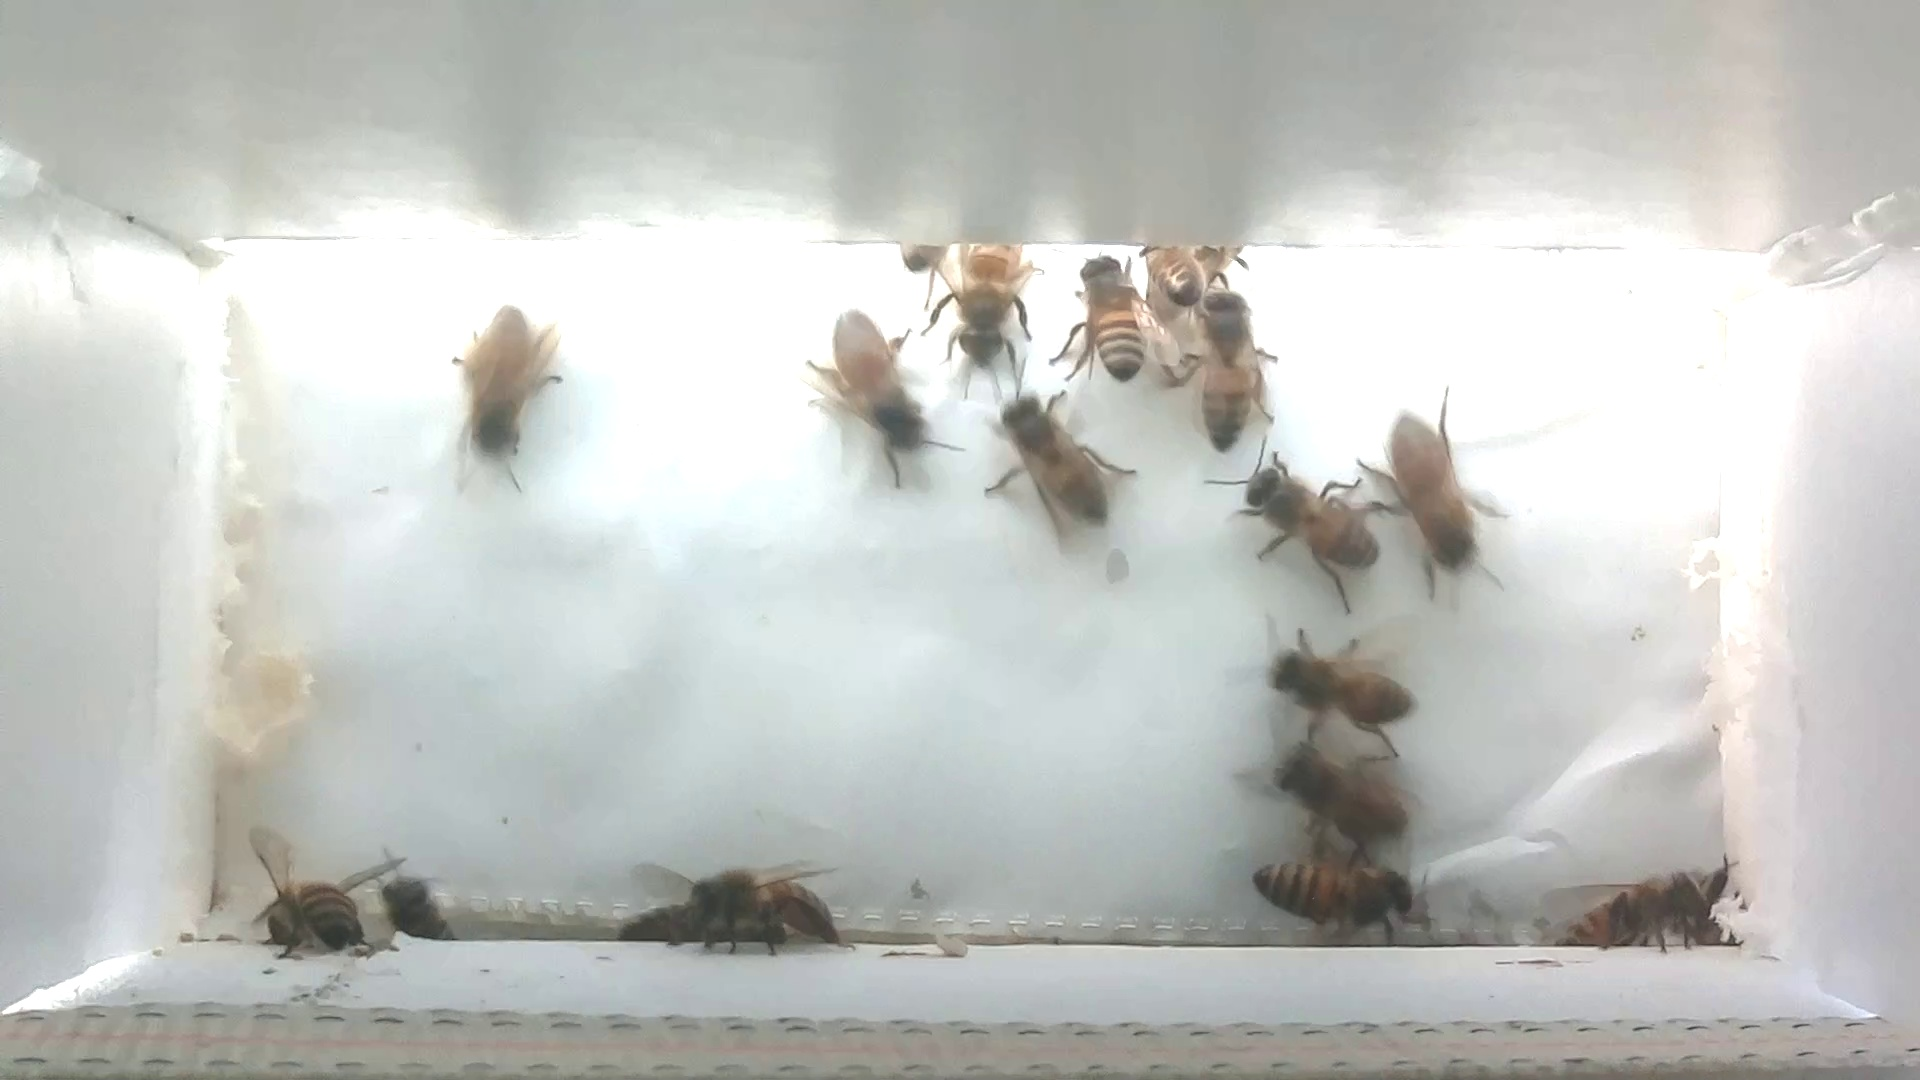bee: (1329, 371, 1520, 600), (1193, 425, 1393, 620), (1244, 615, 1445, 766), (798, 295, 948, 496), (981, 376, 1142, 560), (431, 285, 574, 489), (1520, 841, 1721, 975), (1232, 833, 1447, 955), (1251, 733, 1437, 873), (669, 847, 869, 968), (1171, 273, 1288, 463), (237, 833, 390, 964), (928, 223, 1043, 396), (1048, 233, 1166, 396), (371, 845, 465, 953), (1135, 215, 1229, 324)
